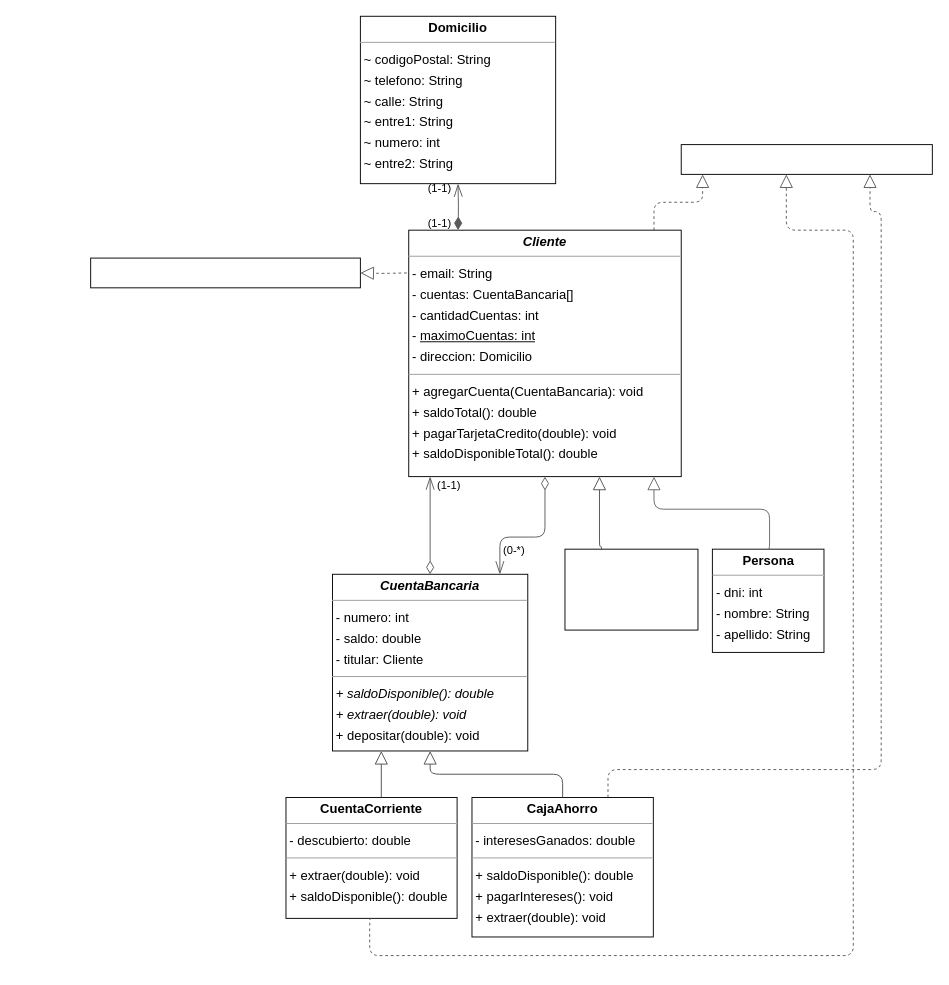
Image size: 949x985. Some labels were removed from this diagram. The shapes that lost their labels are listed below. From the top down, each one's box as (x1, y1, x2, y2) in pixels, then its label:
(680, 144, 932, 174): SaldoInsuficienteException
(90, 257, 360, 288): ClienteMaxCuentasException
(564, 548, 698, 630): Empresa - cuit: String - razonSocial: String
